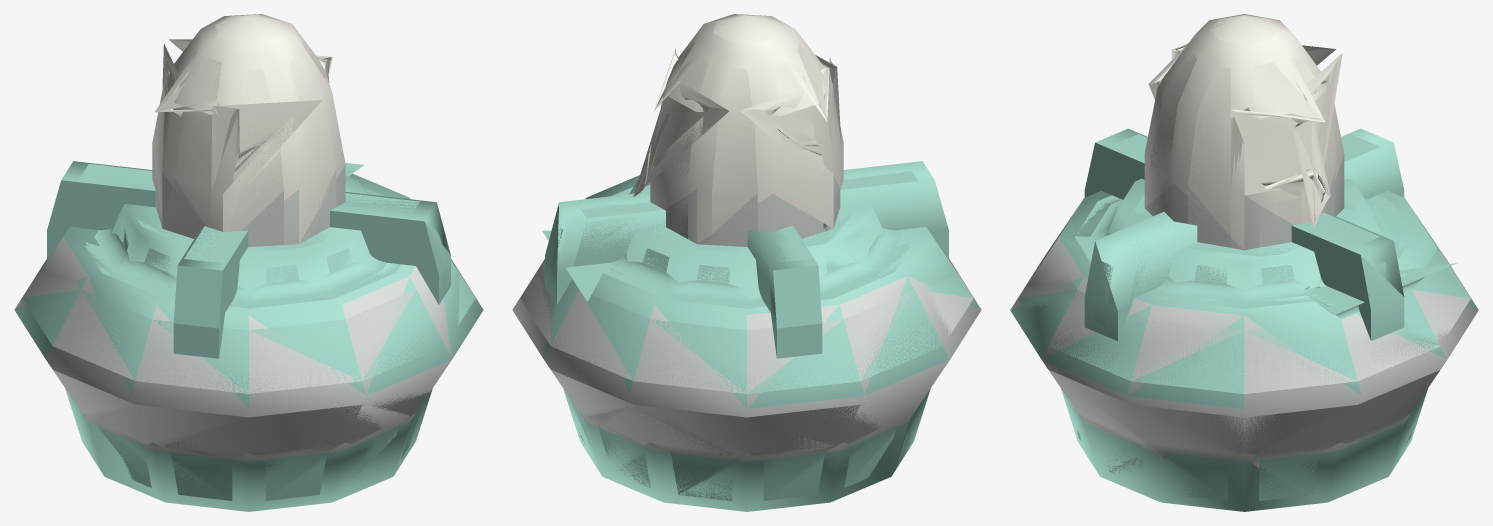
The model's file is tower-defense-kit__enemy-ufo-b.glb.
3 renders of one model, left to right at view 1: azimuth 30°, elevation 25°; view 2: azimuth 150°, elevation 25°; view 3: azimuth 270°, elevation 25°, orthographic.
Visible parts, largest first — view 1: L1_accent, L0_accent, L0_metal, L1_metal, L1_ivory, L0_ivory; view 2: L1_accent, L0_accent, L0_metal, L1_metal, L1_ivory, L0_ivory; view 3: L1_accent, L0_accent, L0_metal, L1_metal, L1_ivory, L0_ivory.
Boxes of the visible parts, x1,y1,x2,y2 form: L1_accent: [14, 161, 483, 511]; L0_accent: [22, 163, 475, 500]; L0_metal: [22, 169, 470, 458]; L1_metal: [14, 142, 454, 461]; L1_ivory: [152, 14, 345, 243]; L0_ivory: [155, 14, 336, 231]; L1_accent: [544, 161, 981, 511]; L0_accent: [525, 171, 973, 500]; L0_metal: [520, 191, 973, 459]; L1_metal: [512, 175, 981, 461]; L1_ivory: [650, 14, 843, 243]; L0_ivory: [633, 14, 841, 233]; L1_accent: [1010, 128, 1478, 511]; L0_accent: [1018, 134, 1470, 501]; L0_metal: [1018, 172, 1470, 468]; L1_metal: [1010, 154, 1478, 461]; L1_ivory: [1144, 14, 1344, 249]; L0_ivory: [1148, 15, 1342, 236].
Bounding box in the file's own units: 1 × 1 × 1.
